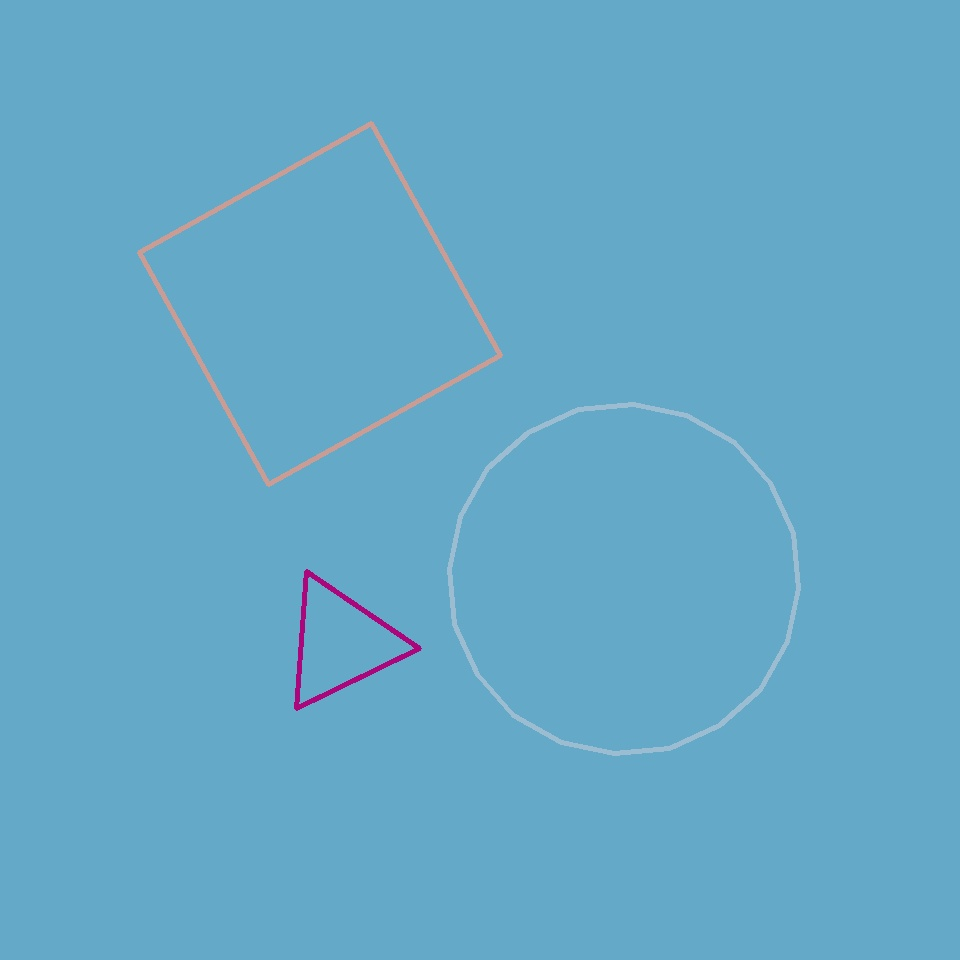circle: (280, 574, 403, 712)
square: (139, 123, 500, 484)
triangle: (450, 404, 798, 754)
